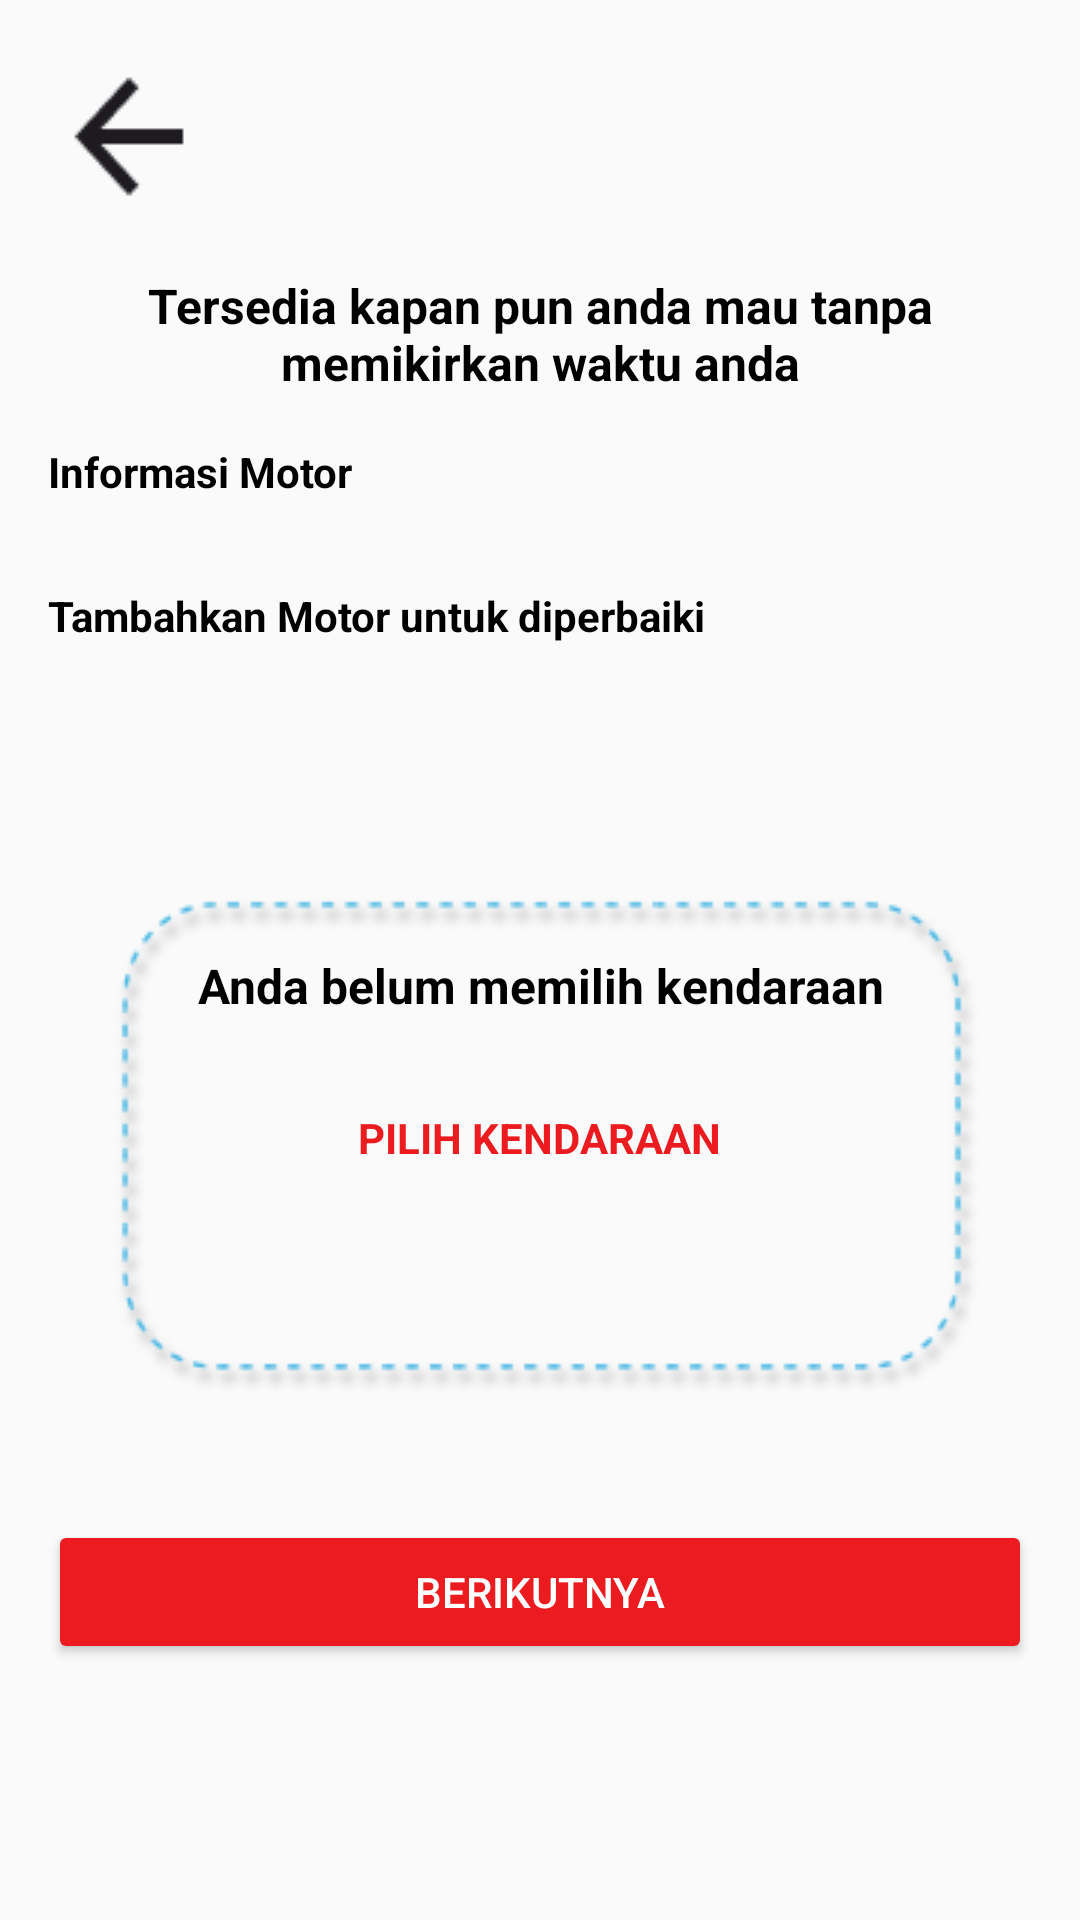

Icon click points for this 1080x1920 phone screenshot, format point (x, y):
back: point (129, 136)
